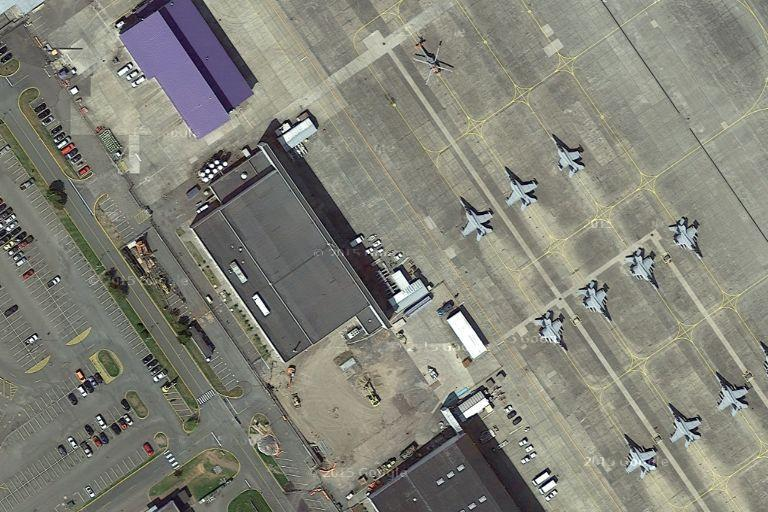F/A-18: (619, 431, 662, 481), (664, 400, 705, 452), (710, 370, 752, 420), (457, 193, 497, 245), (501, 164, 542, 214), (547, 134, 590, 180), (621, 248, 664, 294), (665, 215, 707, 262), (575, 279, 616, 327), (529, 311, 573, 355)
